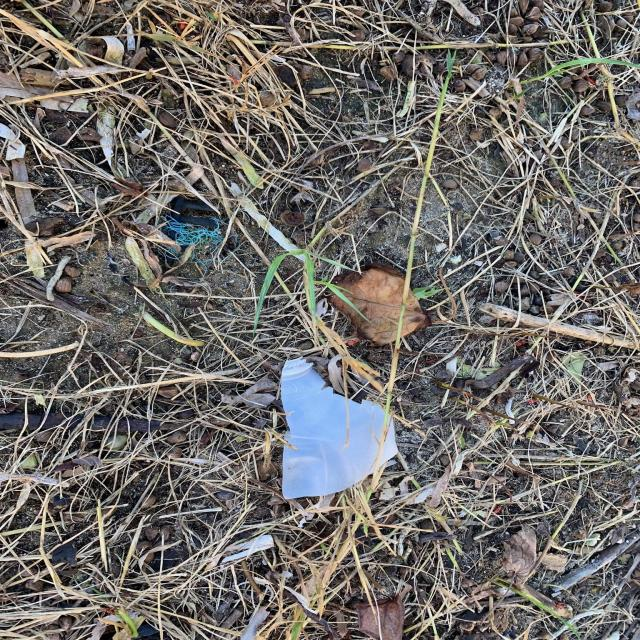litter: (273, 358, 396, 503)
